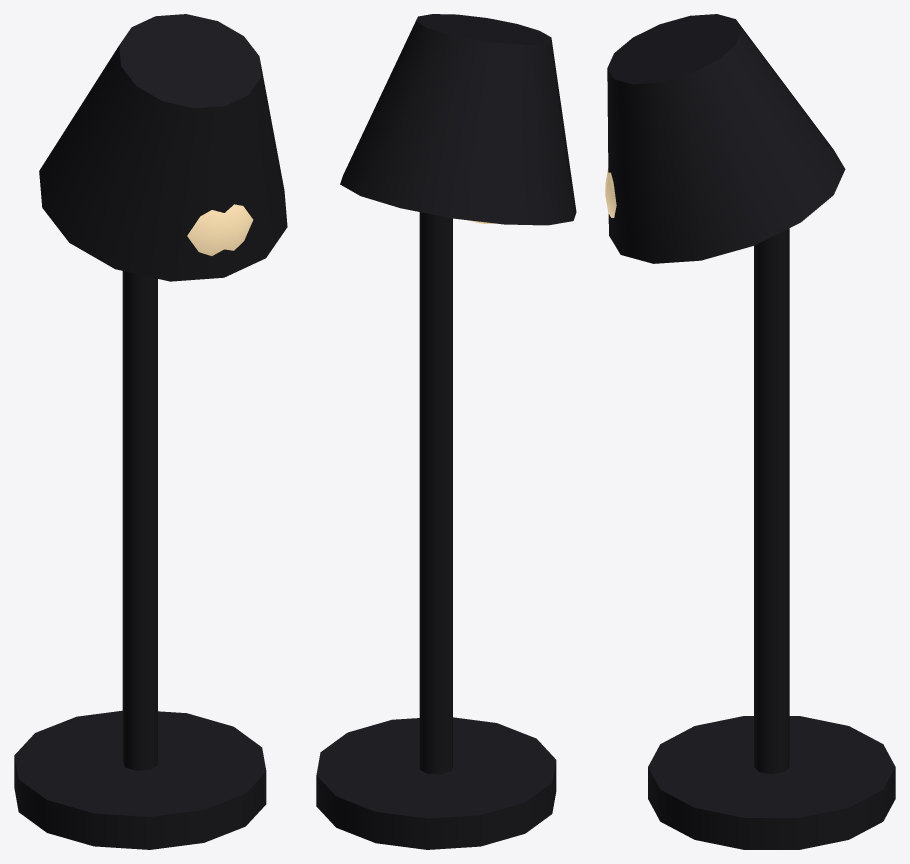
The model's file is luminaria-mesa.glb.
3 renders of one model, left to right at view 1: azimuth 30°, elevation 25°; view 2: azimuth 150°, elevation 25°; view 3: azimuth 270°, elevation 25°, orthographic. The views are drawn at different scales.
Parts seen in each view (by area): view 1: luminaria-mesa_malha; view 2: luminaria-mesa_malha; view 3: luminaria-mesa_malha.
Part boxes in pixels (x1,y1,x2,y2): luminaria-mesa_malha: [14, 14, 287, 849]; luminaria-mesa_malha: [316, 14, 576, 849]; luminaria-mesa_malha: [605, 14, 895, 849].
Size of the model in its own units: 0.1365 by 0.4796 by 0.1641.
